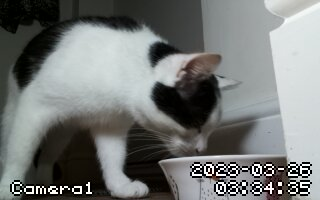bad: (3, 18, 241, 200)
